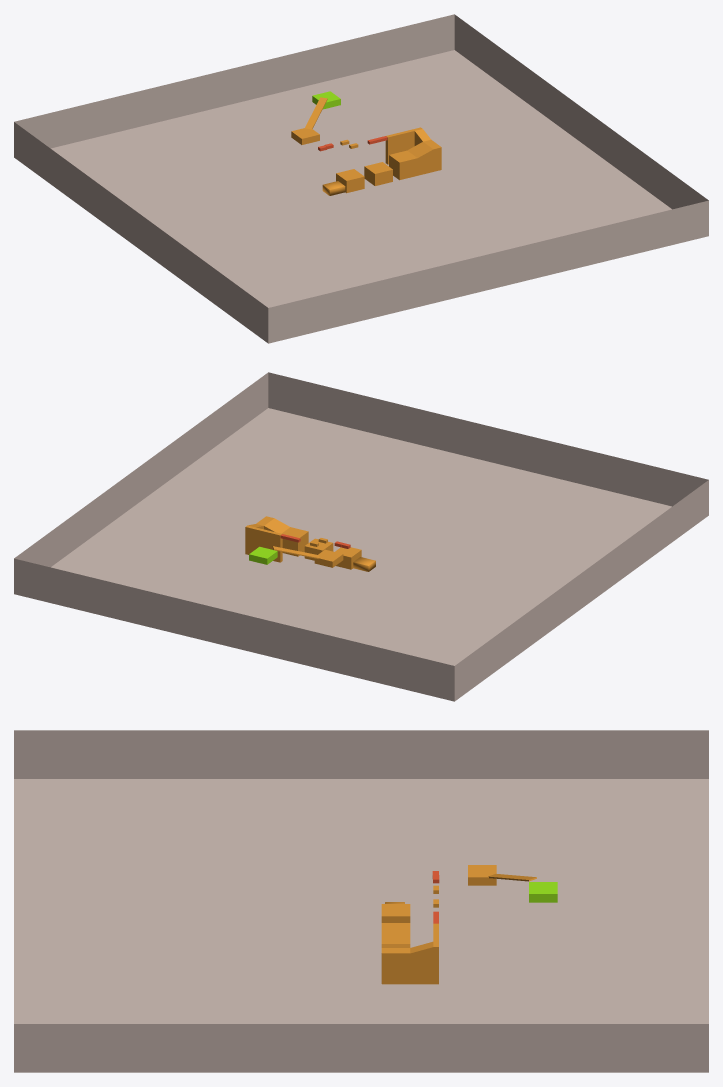
Rendered from leveljump.glb.
3 views of the same model, one above another, from view 1: azimuth 30°, elevation 25°; view 2: azimuth 150°, elevation 25°; view 3: azimuth 270°, elevation 25° (orthographic). The views are drawn at different scales.
Parts seen in each view (by area): view 1: floor, Cube.004, Cube.003; view 2: floor, Cube.004; view 3: floor, Cube.004, victory.001, Cube.008, Cube.001.
Part boxes in pixels (x1,y1,x2,y2): floor: [14, 14, 708, 343]; Cube.004: [385, 127, 441, 180]; Cube.003: [364, 162, 392, 185]; floor: [14, 372, 708, 701]; Cube.004: [245, 516, 308, 562]; floor: [14, 730, 708, 1072]; Cube.004: [381, 923, 438, 984]; victory.001: [529, 882, 557, 902]; Cube.008: [468, 865, 496, 885]; Cube.001: [381, 904, 410, 922].
Bounding box in the file's own units: 48.52 × 4.94 × 48.52.
